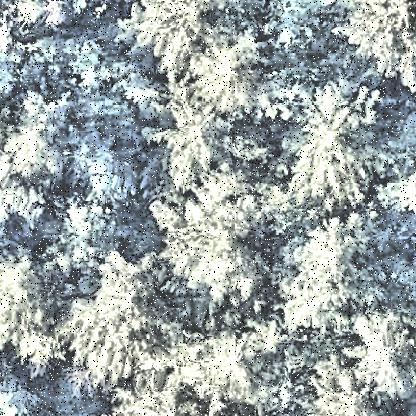tree-top: (160, 170, 290, 300), (71, 251, 191, 378), (279, 216, 388, 332), (291, 80, 381, 207), (154, 97, 238, 182), (1, 248, 57, 374), (337, 1, 416, 84), (11, 96, 84, 178), (352, 309, 416, 401), (189, 38, 266, 113), (193, 326, 271, 399), (133, 2, 199, 68)
